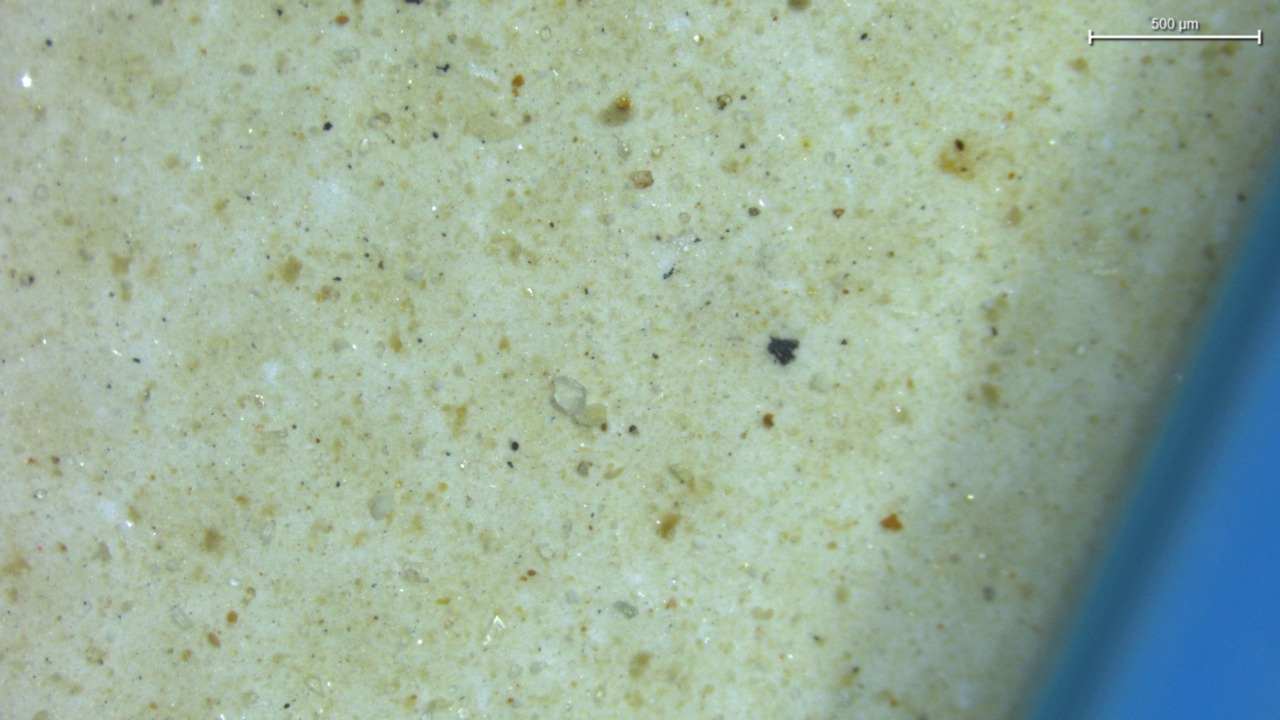microplastic_fragment: (553, 376, 586, 419), (368, 492, 392, 521)
